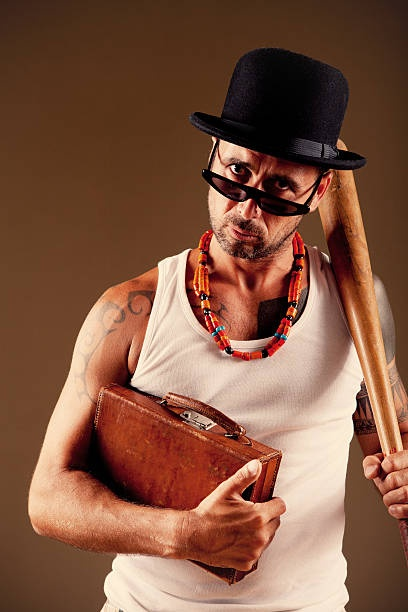bita: (318, 144, 408, 478)
